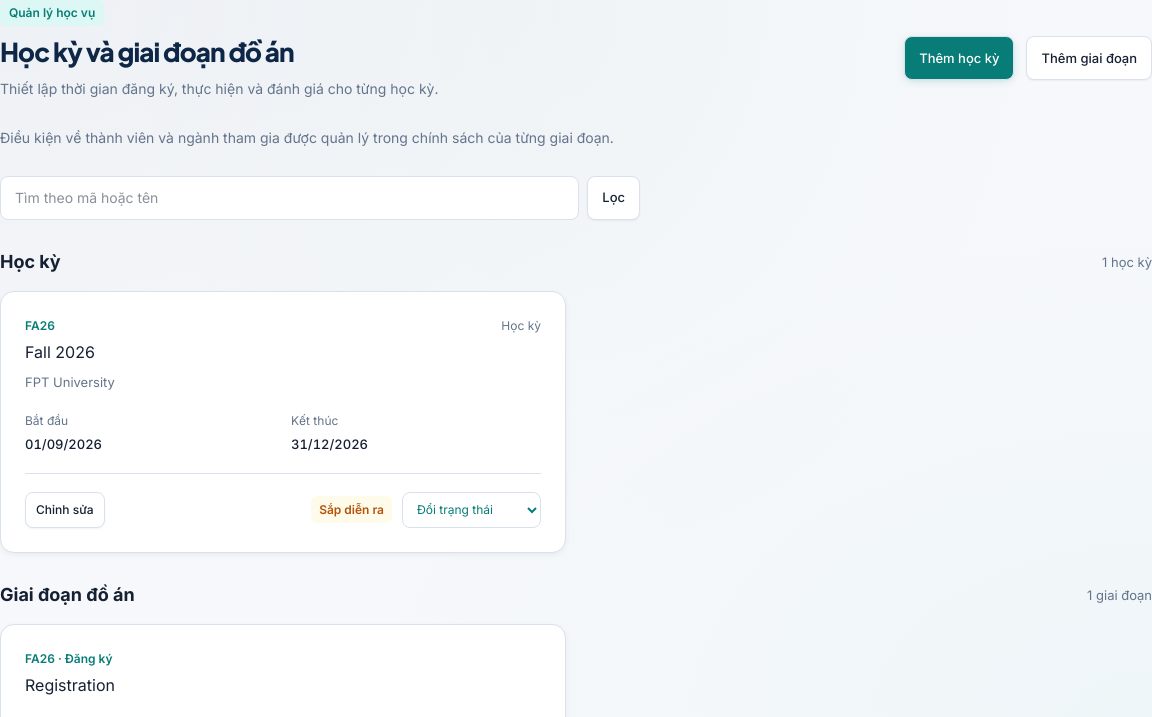
Scenario: offers an explicit retry only after a temporary failure
This screenshot has width=1152, height=717.
Step 1. Click the button "Thêm giai đoạn" → (1089, 58), box [1026,36,1151,80]
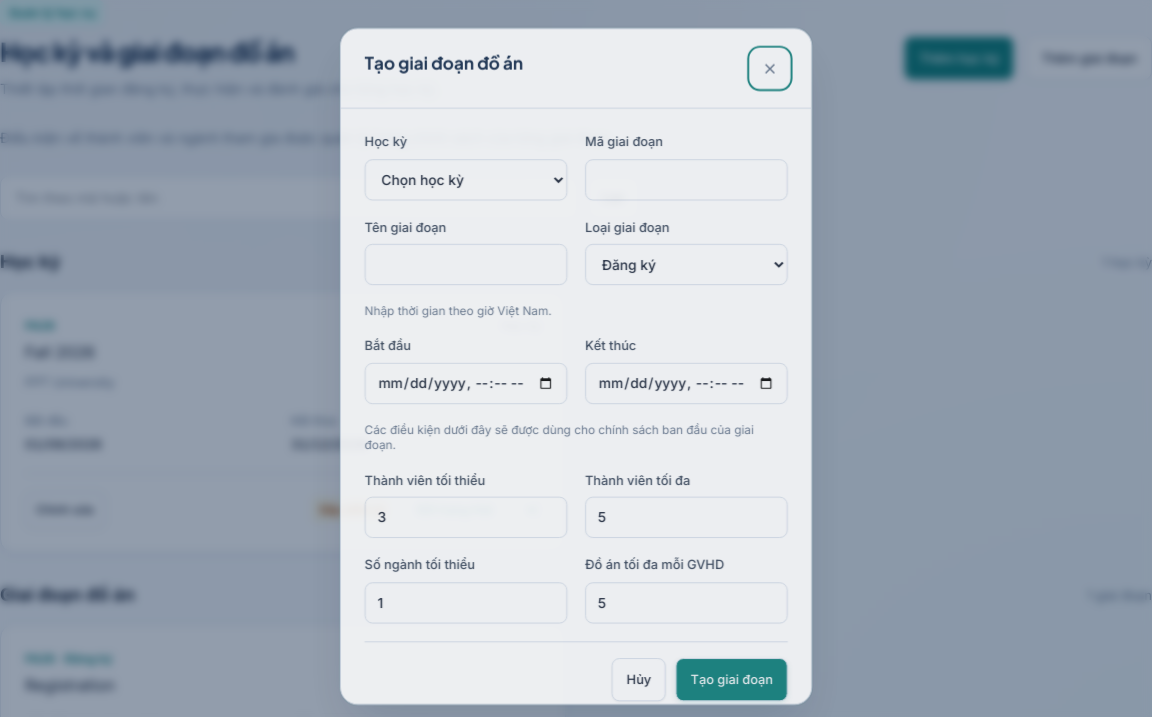
Step 2. Select "FA26 · Fall 2026" in the dropdown labelled "Học kỳ" → (464, 170), box [361,149,567,191]
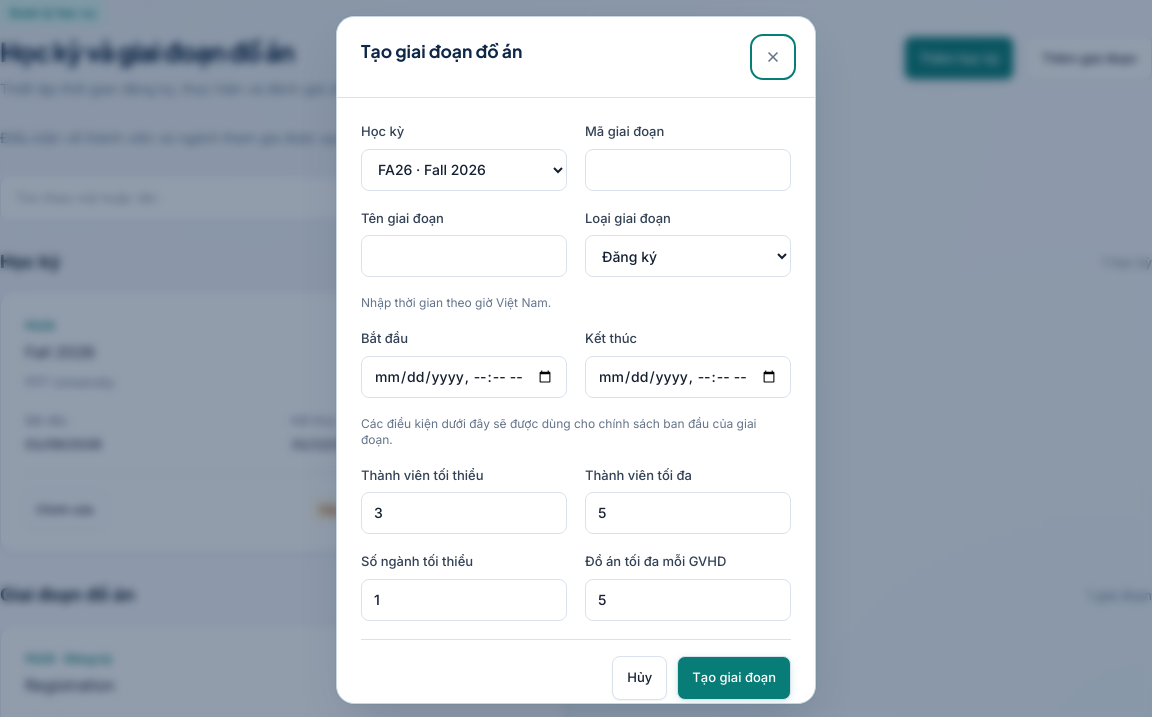
Step 3. Type "OVERLAP-TEST" into the field labelled "Mã giai đoạn" → (688, 170), box [585,149,791,191]
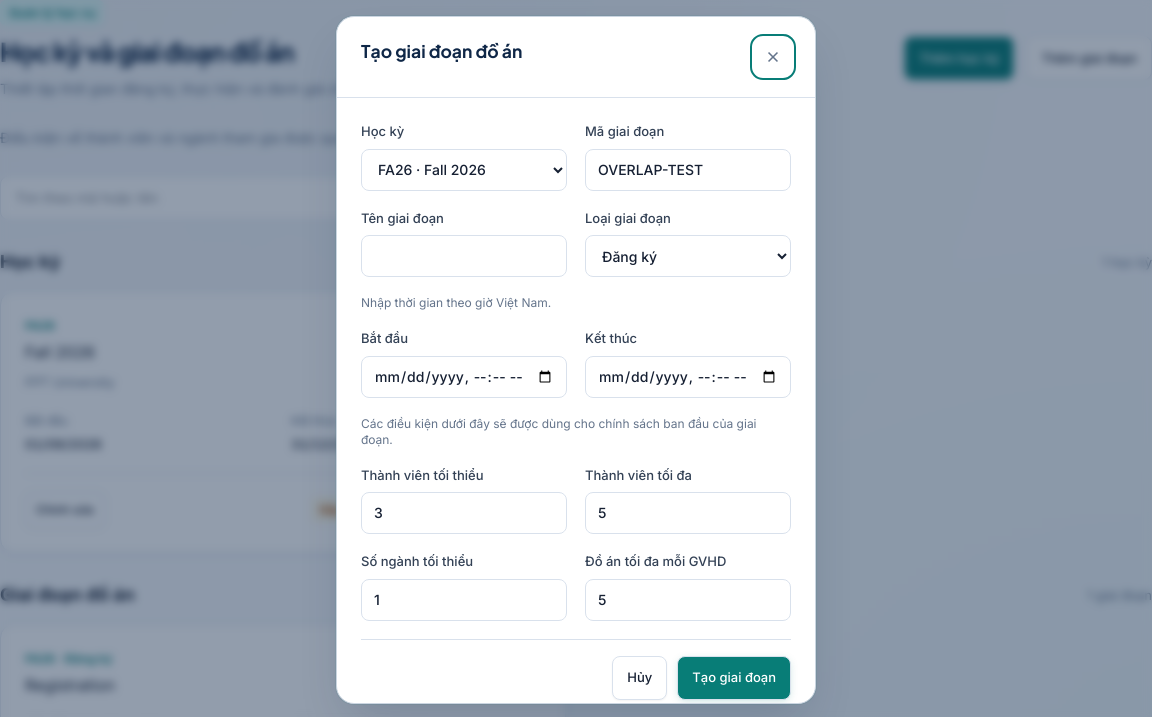
Step 4. Type "Giai đoạn kiểm thử" into the field labelled "Tên giai đoạn" → (464, 256), box [361,235,567,277]
Step 5. Type "2026-09-02T08:00" into the field labelled "Bắt đầu" → (464, 377), box [361,356,567,398]
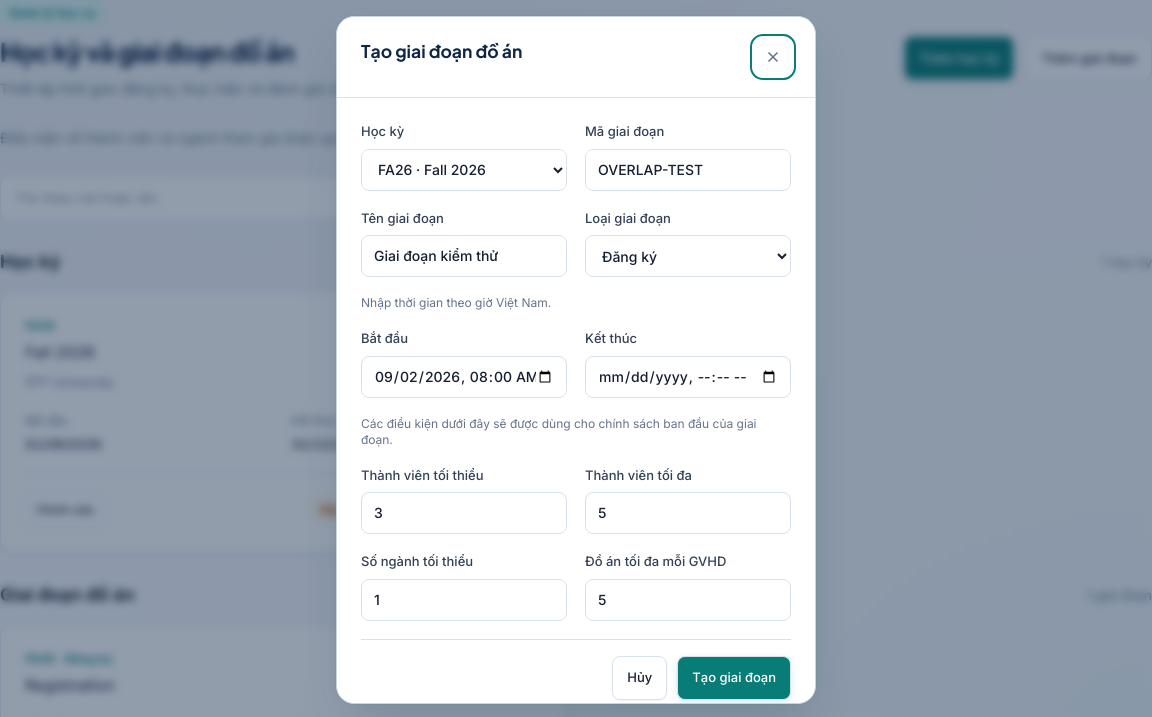
Step 6. Type "2026-09-03T17:00" into the field labelled "Kết thúc" → (688, 377), box [585,356,791,398]
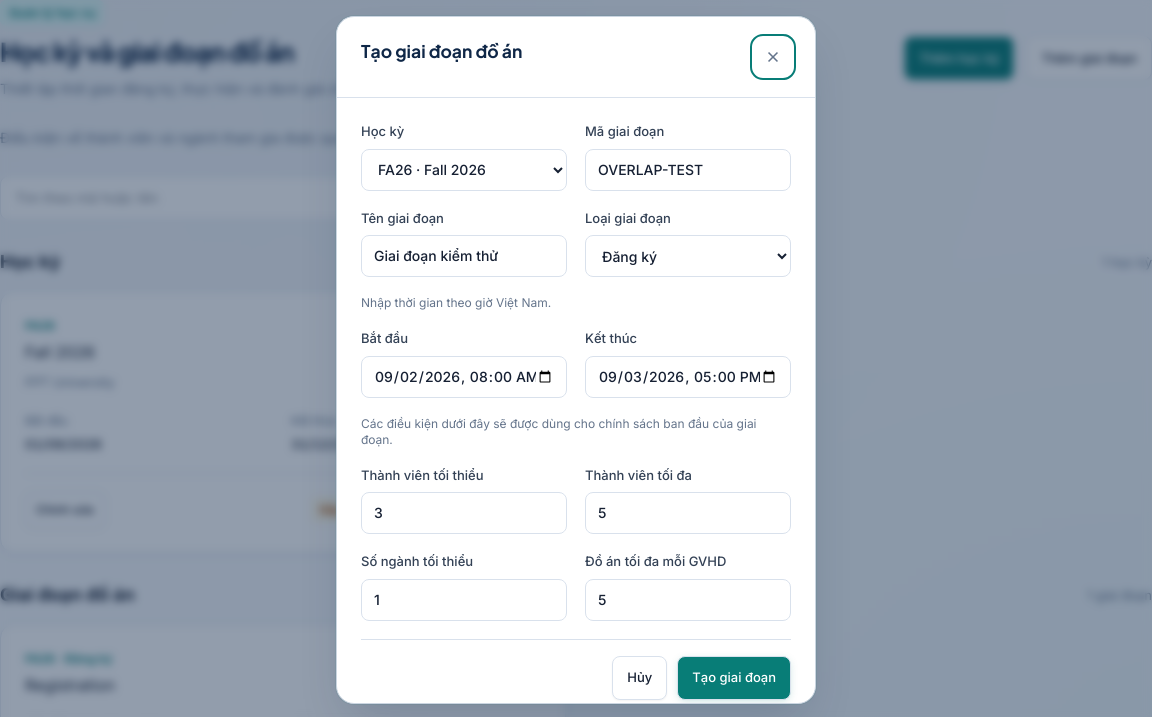
Step 7. Submit the form labelled "Mã giai đoạn", box [361,122,791,700]
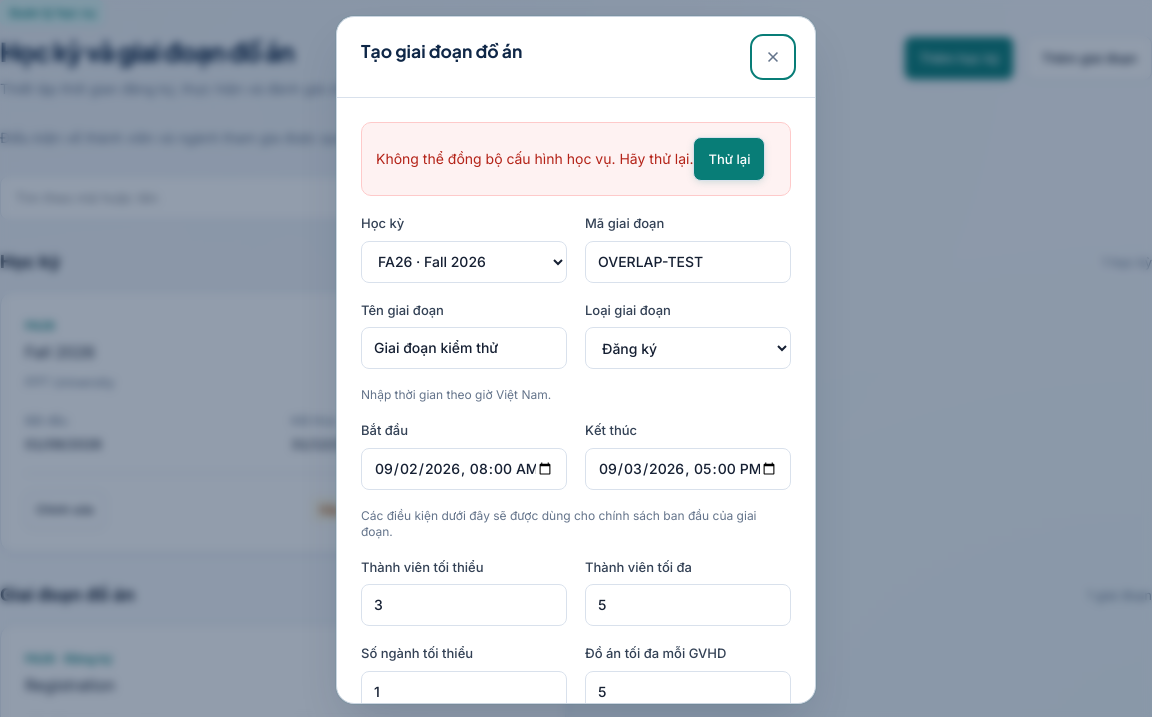
Expected: the button "Thử lại" is shown, [694,137,765,181]
